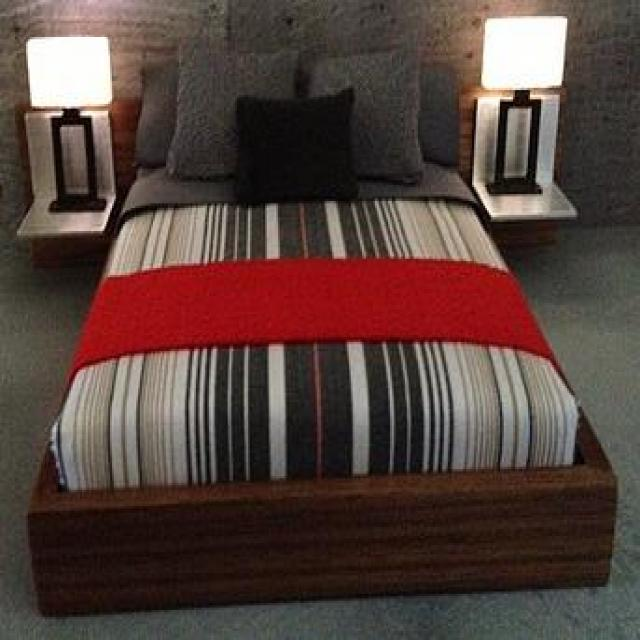bed: (26, 57, 618, 626)
